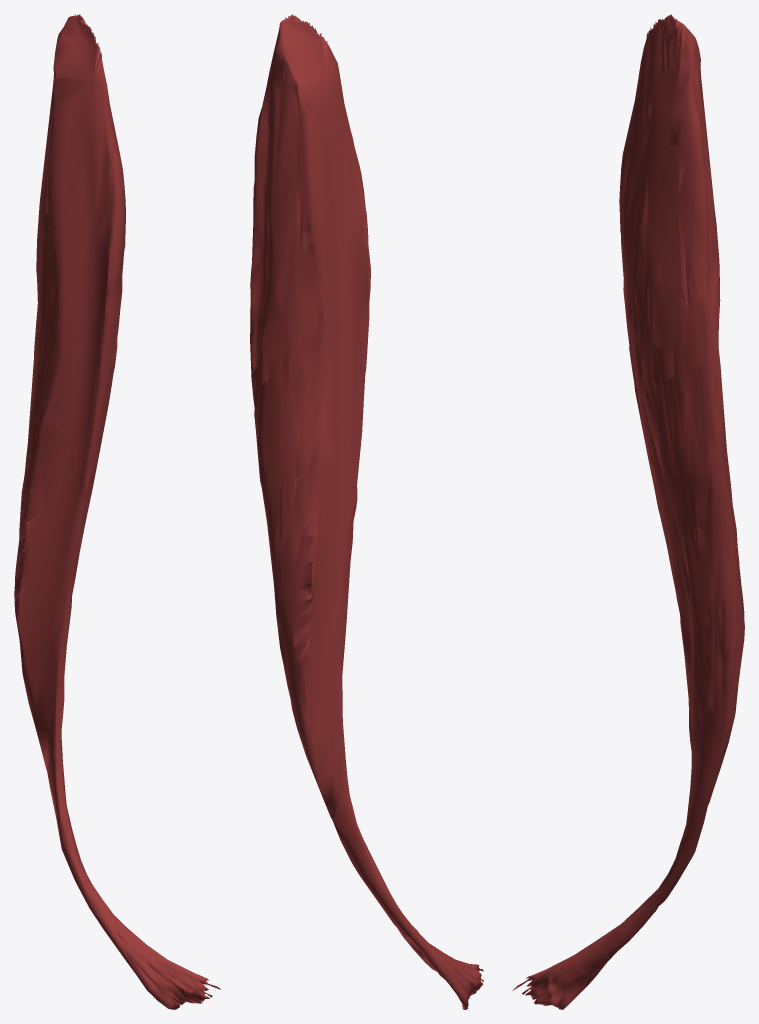
Rendered from tibialis-anterior-muscle-l.glb.
3 renders of one model, left to right at view 1: azimuth 90°, elevation 25°; view 2: azimuth 150°, elevation 25°; view 3: azimuth 270°, elevation 25°, orthographic. The views are drawn at different scales.
Visible parts, largest first — view 1: Tibialis anterior muscle.l; view 2: Tibialis anterior muscle.l; view 3: Tibialis anterior muscle.l.
Part boxes in pixels (x1,y1,x2,y2): Tibialis anterior muscle.l: [14, 14, 220, 1009]; Tibialis anterior muscle.l: [250, 14, 483, 1009]; Tibialis anterior muscle.l: [512, 14, 744, 1009].
Size of the model in its own units: 0.0608 by 0.3689 by 0.0737.
